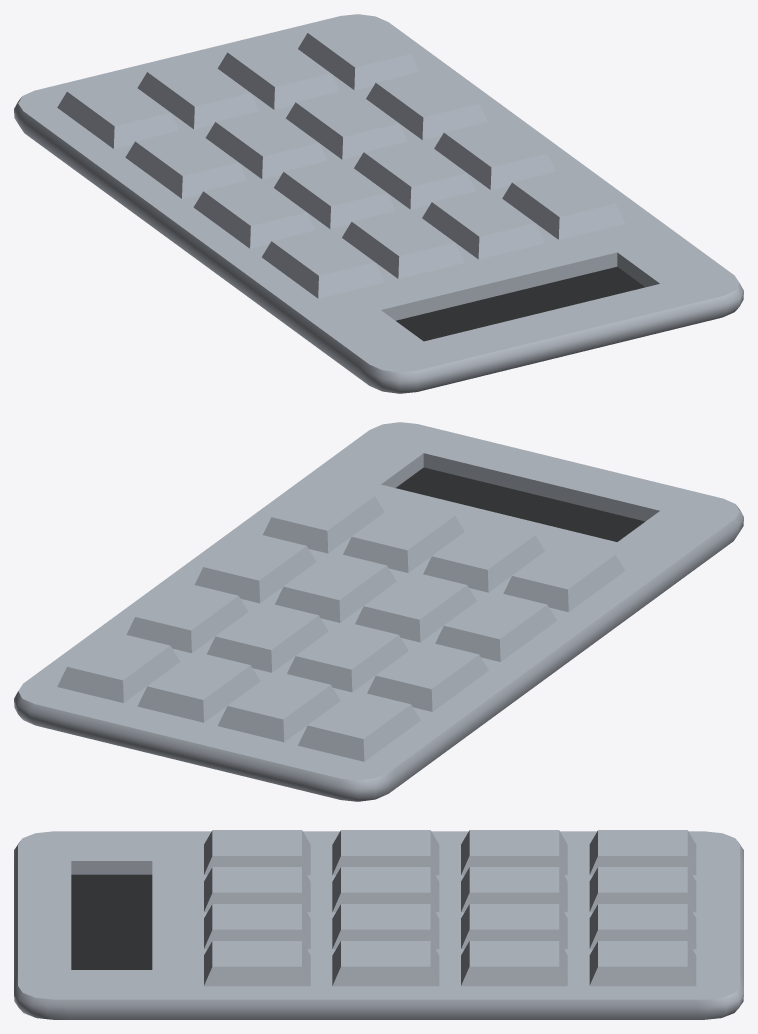
Rendered from machine_calculator_small.glb.
3 views of the same model, one above another, from view 1: azimuth 30°, elevation 25°; view 2: azimuth 150°, elevation 25°; view 3: azimuth 270°, elevation 25° (orthographic). The views are drawn at different scales.
Parts seen in each view (by area): view 1: machine_calculator_small; view 2: machine_calculator_small; view 3: machine_calculator_small.
Part boxes in pixels (left/top/right/bottom): machine_calculator_small: left=14, top=14, right=743, bottom=393; machine_calculator_small: left=14, top=422, right=743, bottom=801; machine_calculator_small: left=14, top=830, right=743, bottom=1019.
Size of the model in its own units: 9.04 by 0.9358 by 16.41.
Materials: 1 (1 with a texture image).
